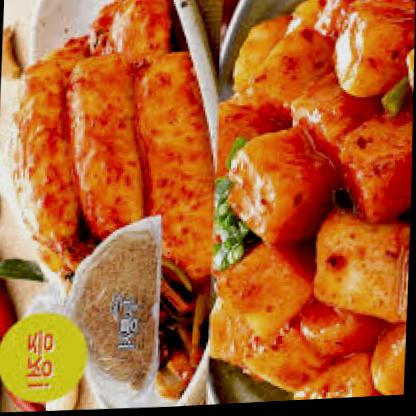chonggak Kimchi: (5, 1, 221, 356)
radish Kimchi: (215, 0, 415, 406)
